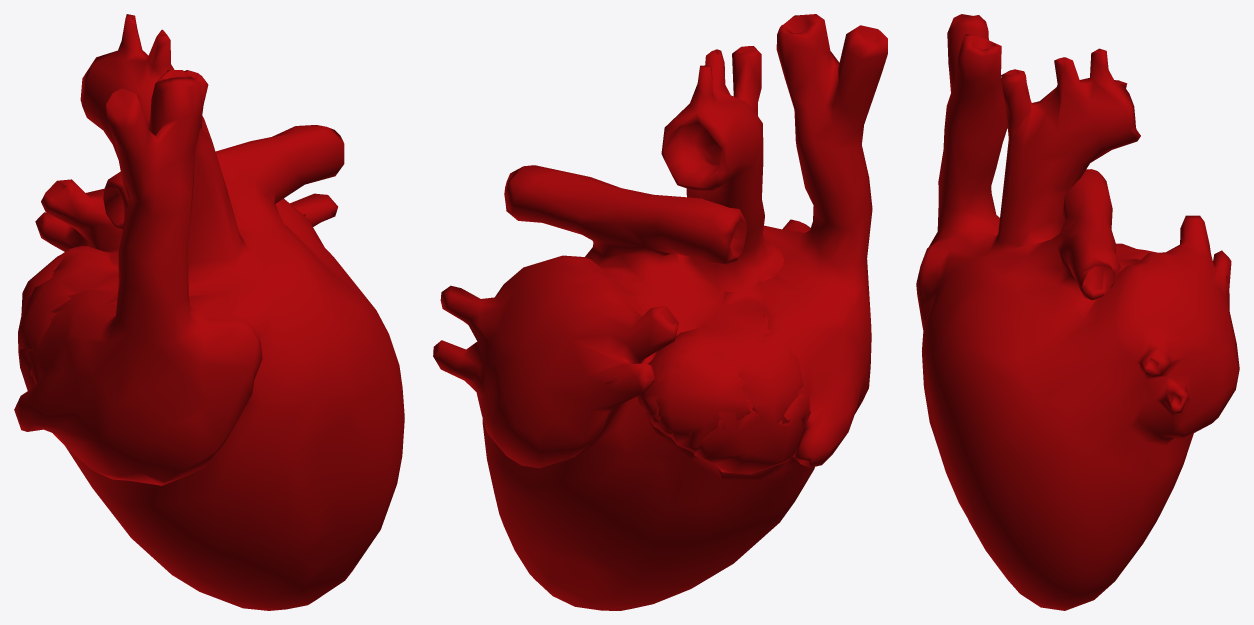
Rendered from Heart.fbx.
3 views of the same model, side by side, from view 1: azimuth 30°, elevation 25°; view 2: azimuth 150°, elevation 25°; view 3: azimuth 270°, elevation 25° (orthographic). The views are drawn at different scales.
Parts seen in each view (by area): view 1: Heart; view 2: Heart; view 3: Heart.
Boxes of the visible parts, x1,y1,x2,y2 form: Heart: [14, 14, 404, 610]; Heart: [433, 14, 887, 610]; Heart: [916, 14, 1239, 610].
Size of the model in its own units: 6.24 by 10 by 5.85.
